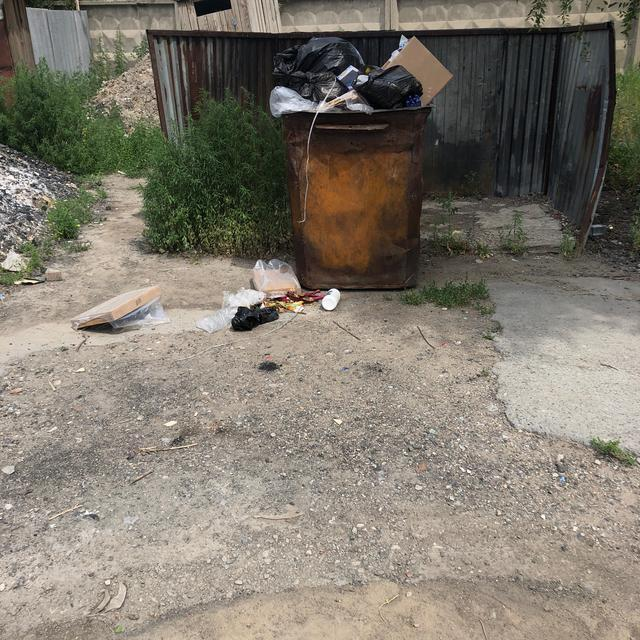Trash_Can_Full: (269, 33, 433, 290)
